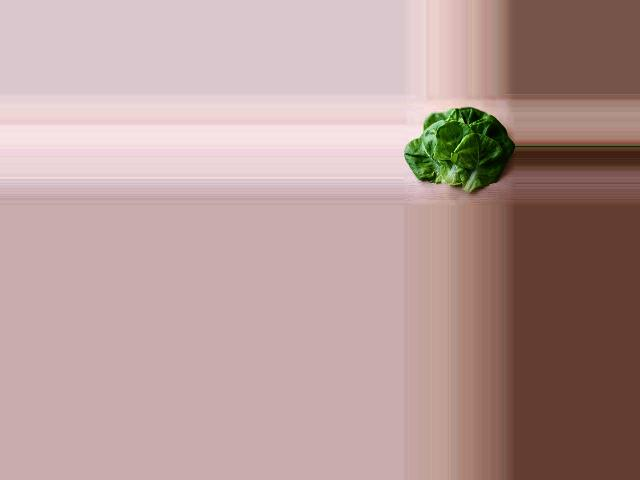lettuce: (407, 107, 512, 188)
